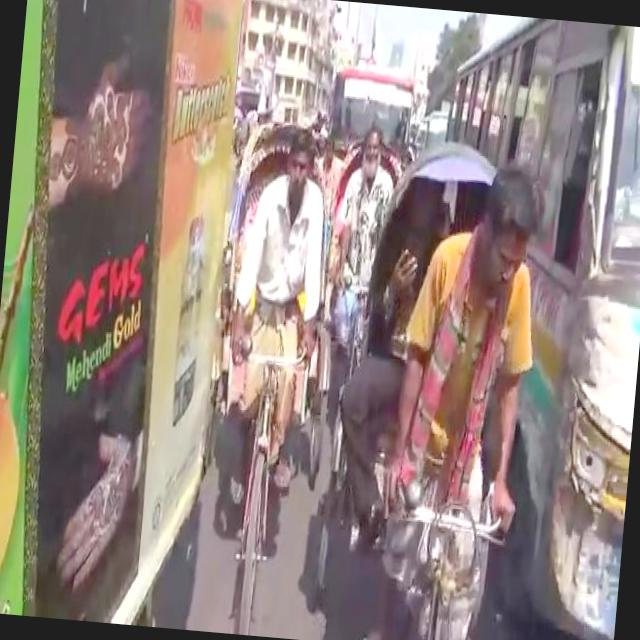bus: (397, 10, 640, 640), (325, 62, 416, 165)
motorcycle: (307, 110, 556, 640), (191, 108, 353, 636)
